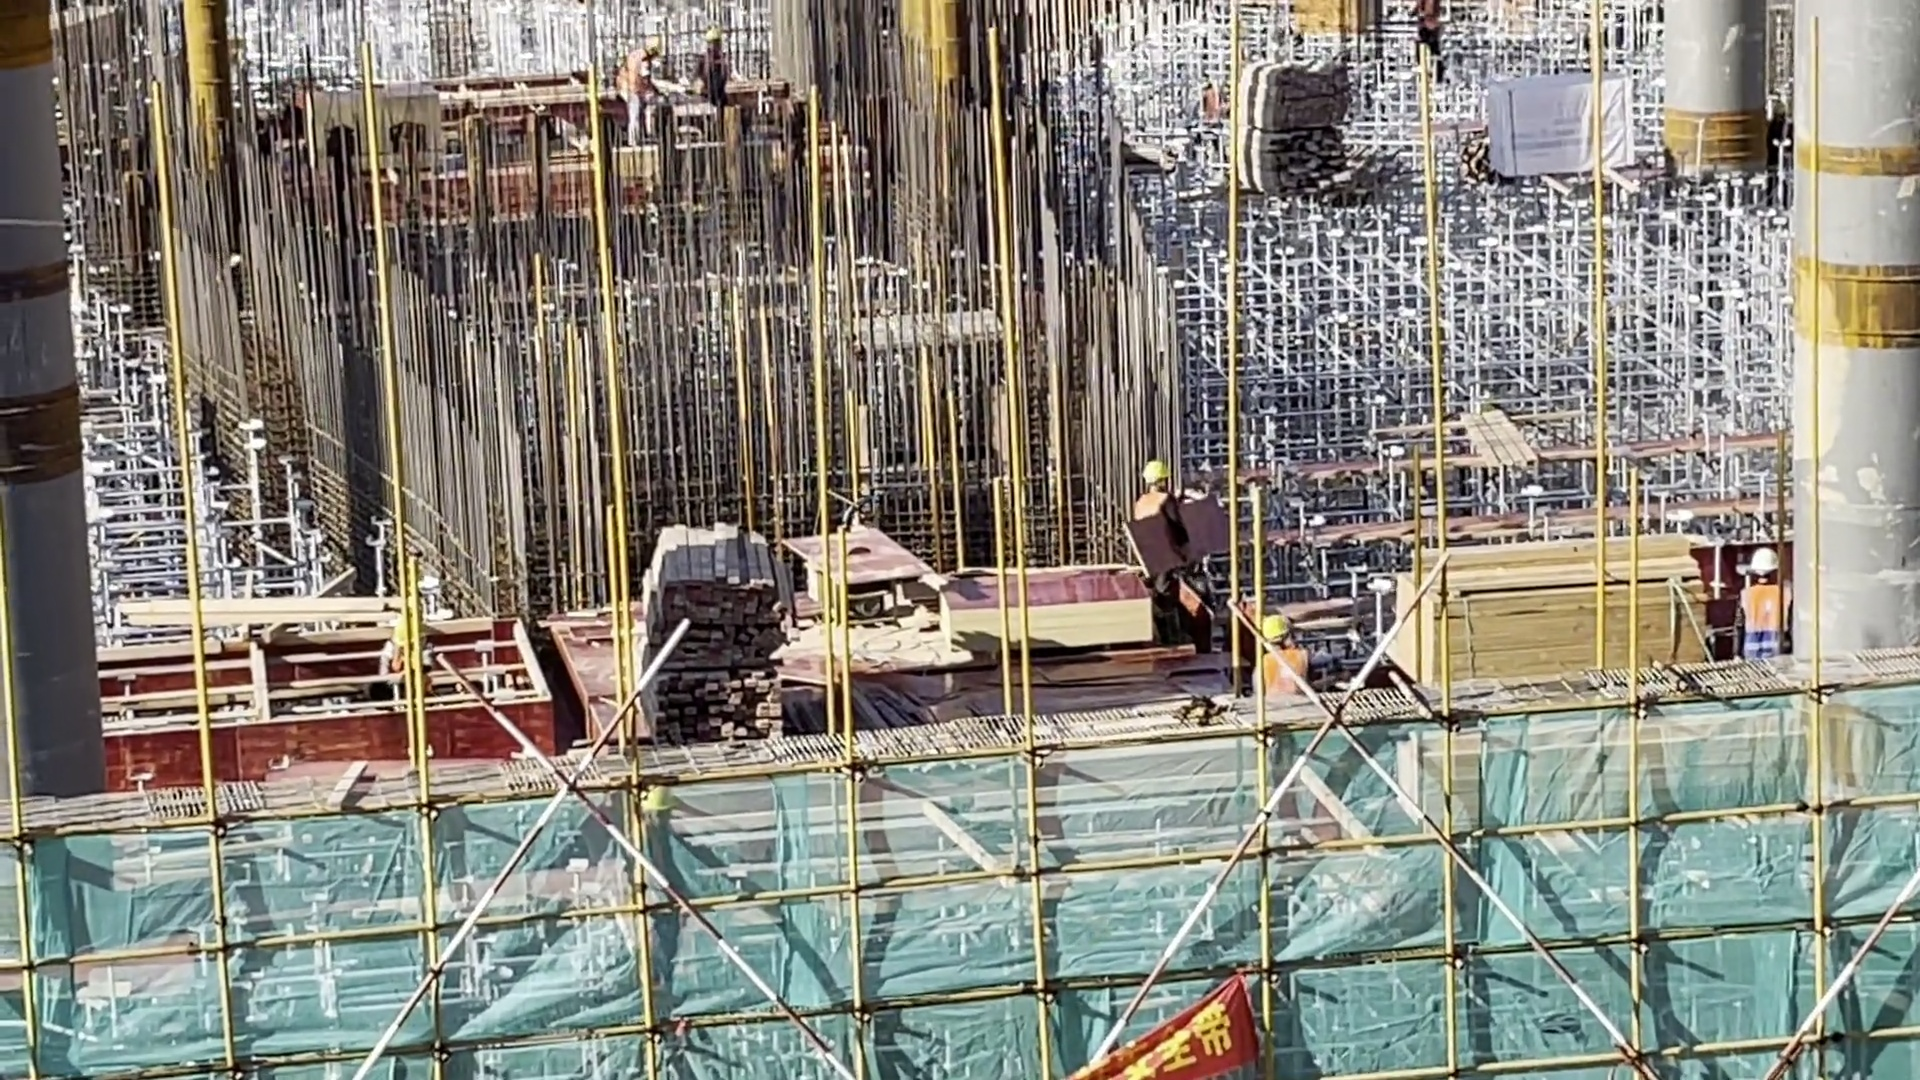helmet: (1736, 537, 1784, 585), (1256, 605, 1300, 650), (1140, 454, 1175, 494)
person: (1128, 456, 1212, 619), (1728, 532, 1800, 664), (1248, 602, 1329, 712)
slogan: (939, 917, 1293, 1080)
vest: (1738, 578, 1791, 661), (1259, 648, 1312, 697)
wood: (1358, 519, 1744, 711), (630, 487, 808, 741)
